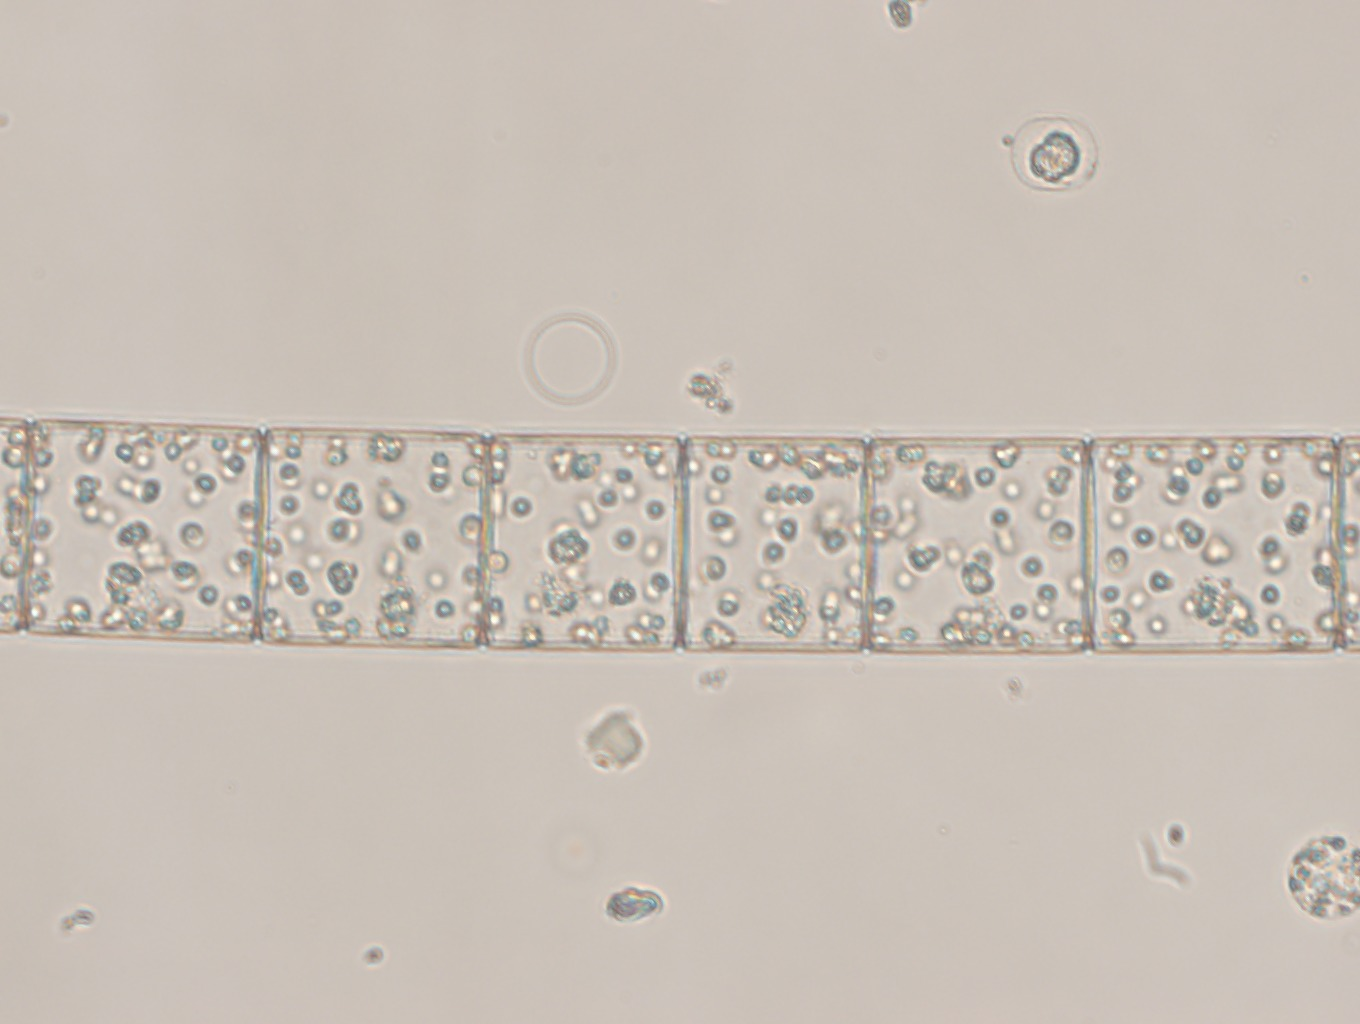guinardia flaccida: (1, 414, 1360, 659)
